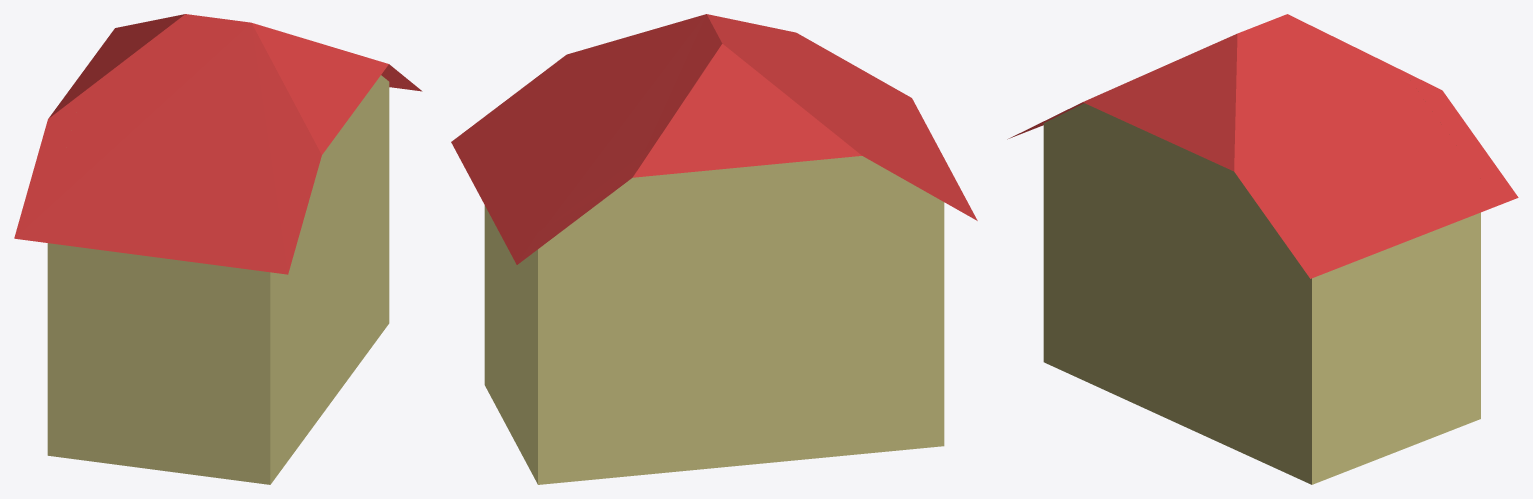
3 renders of one model, left to right at view 1: azimuth 30°, elevation 25°; view 2: azimuth 150°, elevation 25°; view 3: azimuth 270°, elevation 25°, orthographic. The views are drawn at different scales.
Parts seen in each view (by area): view 1: group_5, group_3, group_4; view 2: group_5, group_3, group_4; view 3: group_5, group_3, group_4.
Part boxes in pixels (x1,y1,x2,y2): group_5: (47, 75, 389, 484); group_3: (14, 14, 421, 274); group_4: (15, 54, 421, 272); group_5: (484, 156, 944, 484); group_3: (451, 14, 977, 264); group_4: (451, 28, 914, 264); group_5: (1043, 103, 1480, 484); group_3: (1118, 14, 1518, 278); group_4: (1007, 71, 1518, 278).
Size of the model in its own units: 19.63 by 19.28 by 15.23.
